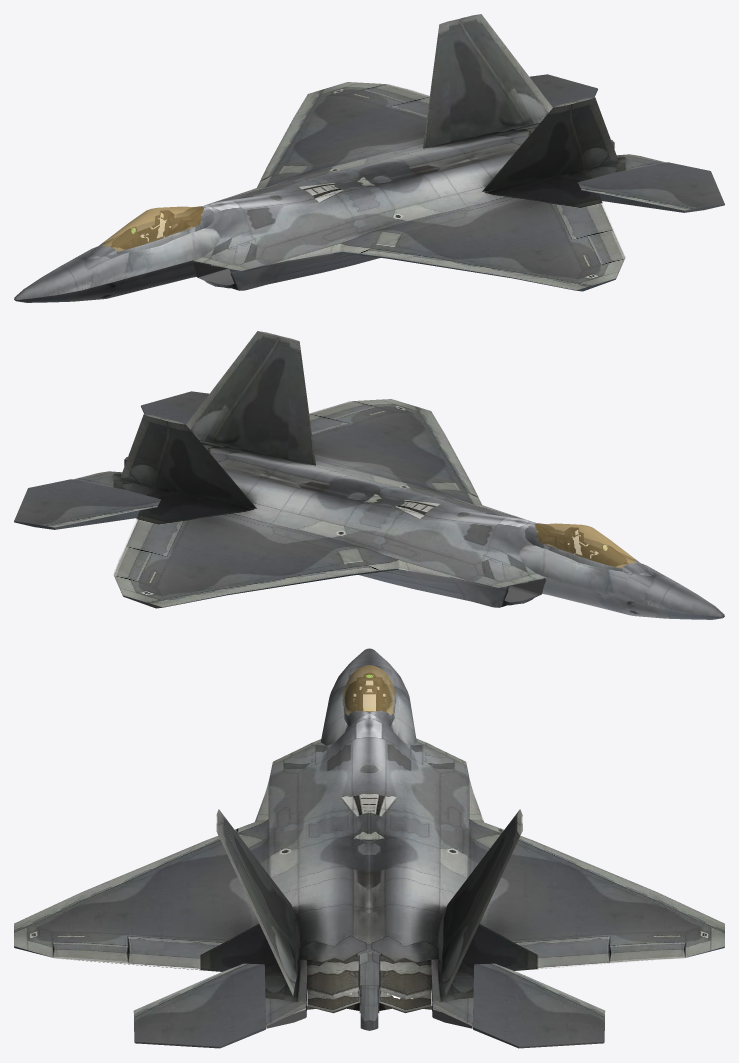
3 views of the same model, one above another, from view 1: azimuth 30°, elevation 25°; view 2: azimuth 150°, elevation 25°; view 3: azimuth 270°, elevation 25° (orthographic). The views are drawn at different scales.
Parts seen in each view (by area): view 1: f22_2; view 2: f22_2; view 3: f22_2.
Boxes of the visible parts, x1,y1,x2,y2 form: f22_2: [14, 14, 724, 302]; f22_2: [14, 331, 724, 619]; f22_2: [14, 648, 724, 1048].
Size of the model in its own units: 12.11 by 2.59 by 8.79.
18 materials, 8 textured.
